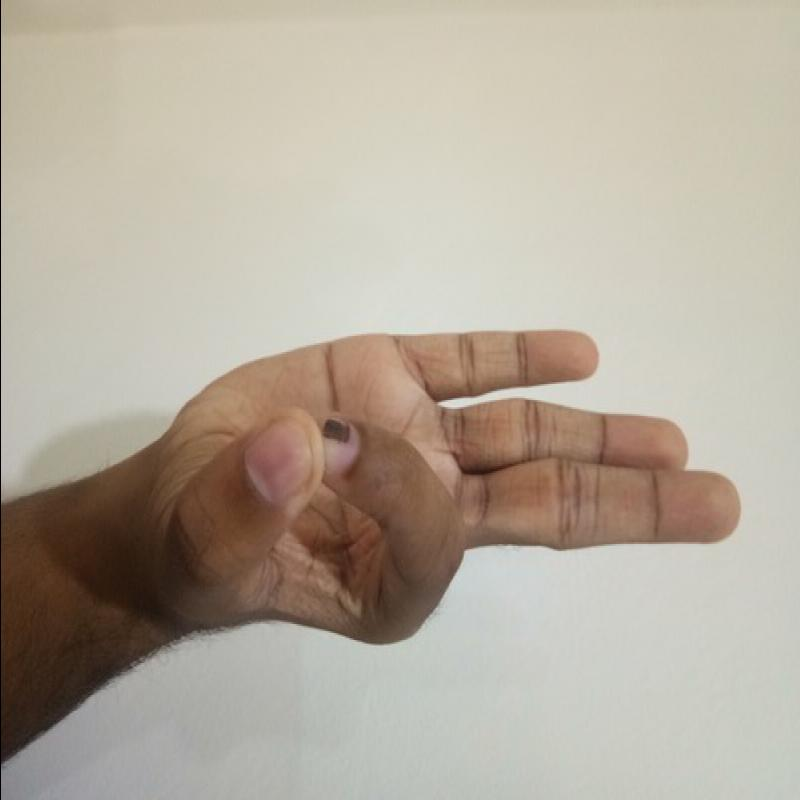Mudraakhyam: (141, 314, 755, 655)
